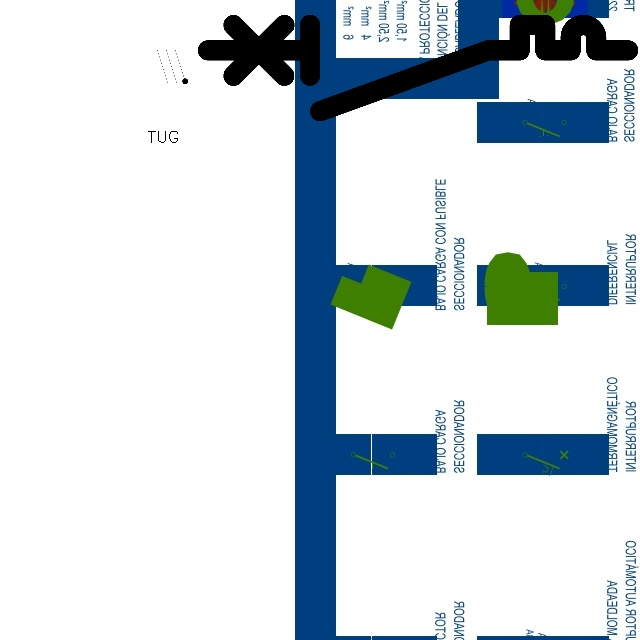interruptor_termomagnetico: (197, 14, 639, 122)
